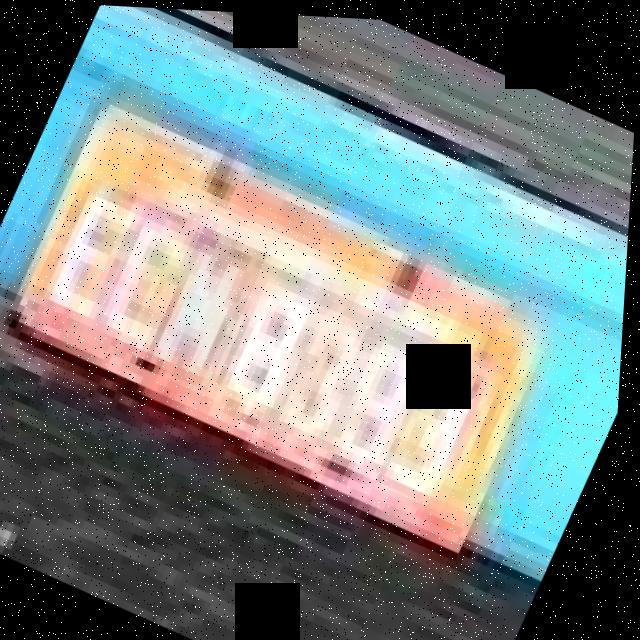3: (384, 342, 509, 510), (276, 304, 382, 450)
8: (217, 272, 322, 421)
9: (330, 321, 445, 482)
E: (42, 181, 151, 329)
M: (145, 222, 272, 390)
